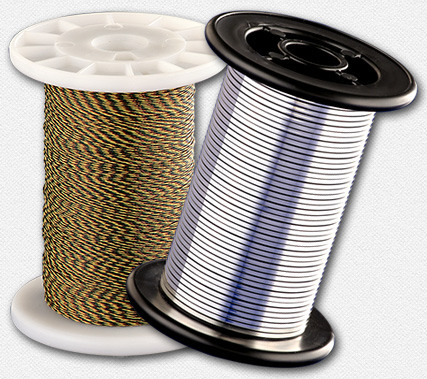Nonrec_Tangler: (1, 9, 397, 364)
